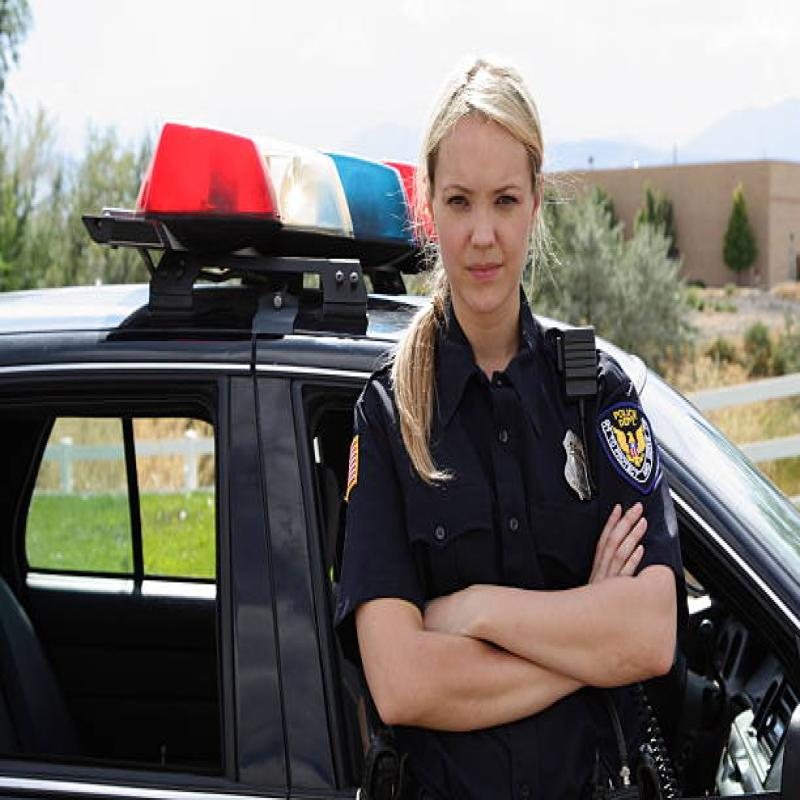AmbulanceSiren: (135, 106, 438, 282)
